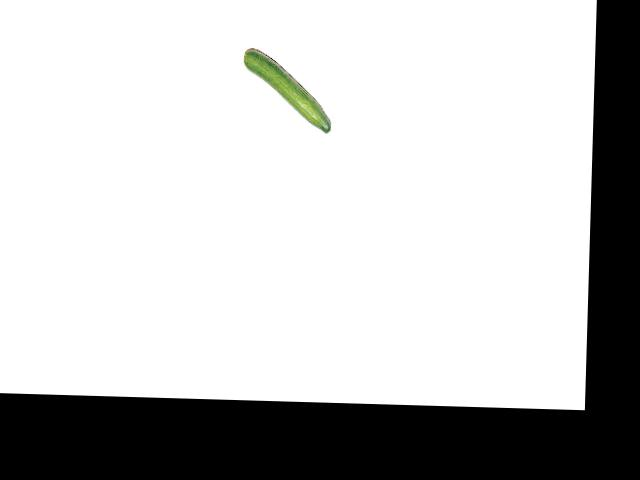cucumber: (241, 48, 333, 133)
